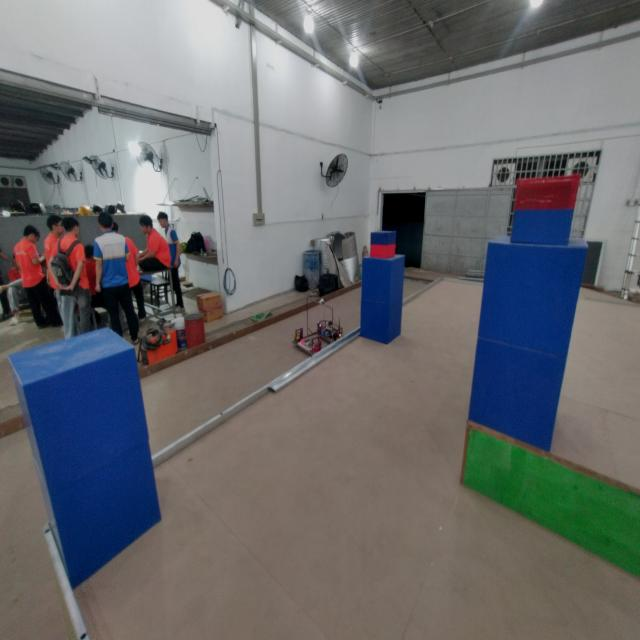earth_block: (472, 242, 591, 349), (359, 255, 405, 300), (358, 300, 402, 343)
sky_block: (509, 170, 586, 243), (368, 227, 394, 257)
